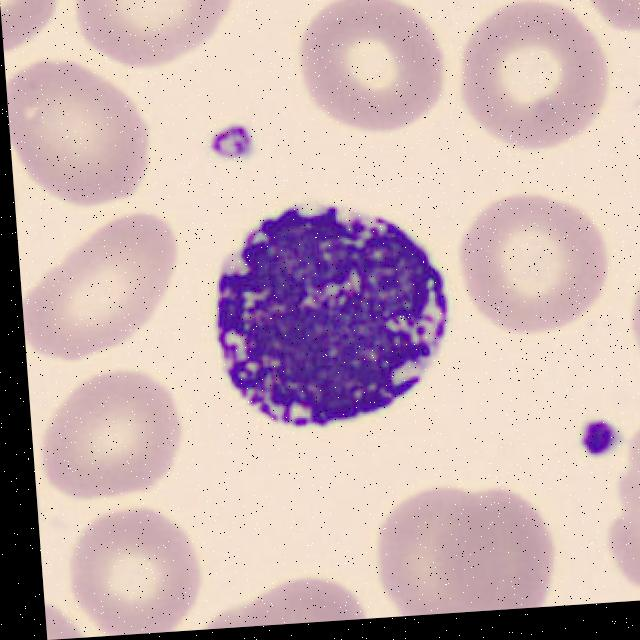basophil: (203, 191, 465, 445)
platelets: (206, 114, 264, 168), (577, 412, 627, 462)
rbc: (454, 177, 617, 334), (16, 205, 185, 354), (5, 56, 165, 207), (453, 0, 615, 148), (36, 364, 198, 501), (296, 0, 447, 136), (57, 501, 204, 639), (367, 477, 500, 618), (456, 473, 561, 612), (178, 562, 371, 631), (70, 0, 243, 74), (603, 398, 640, 602), (627, 240, 640, 381)
